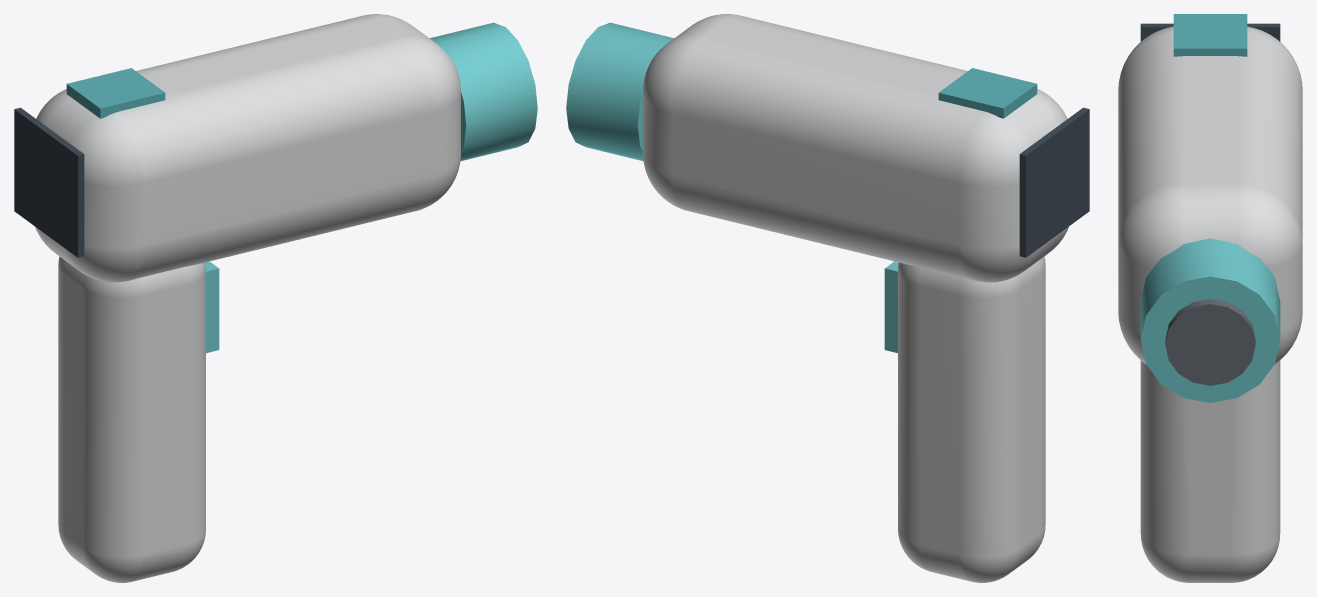
File: thermometer.glb
The picture shows the model from 3 angles, left to right: view 1: azimuth 30°, elevation 25°; view 2: azimuth 150°, elevation 25°; view 3: azimuth 270°, elevation 25°; orthographic projection. The views are drawn at different scales.
Visible parts, largest first — view 1: thermometer; view 2: thermometer; view 3: thermometer.
Boxes of the visible parts, box(x1,y1,x2,y2) form: thermometer: box(14, 14, 537, 582); thermometer: box(566, 14, 1089, 582); thermometer: box(1118, 14, 1302, 582).
Bounding box in the file's own units: 0.1445 × 0.142 × 0.045.
